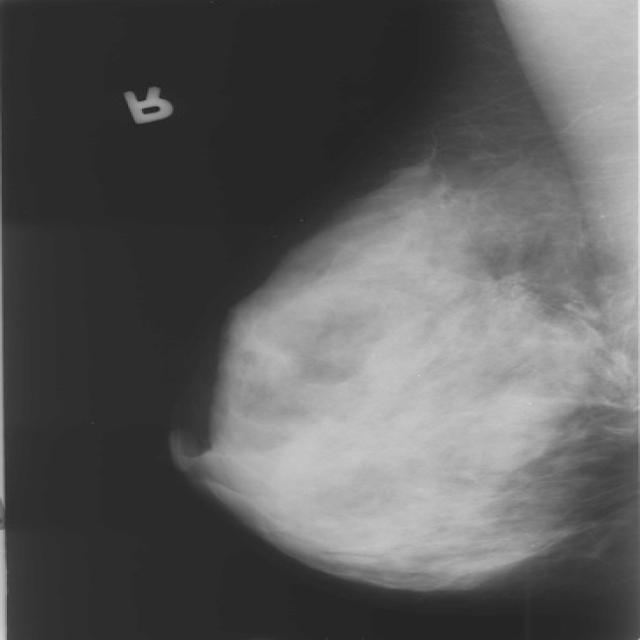tumour: (475, 270, 533, 314)
